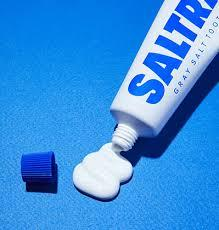toothpaste: (107, 0, 219, 151)
